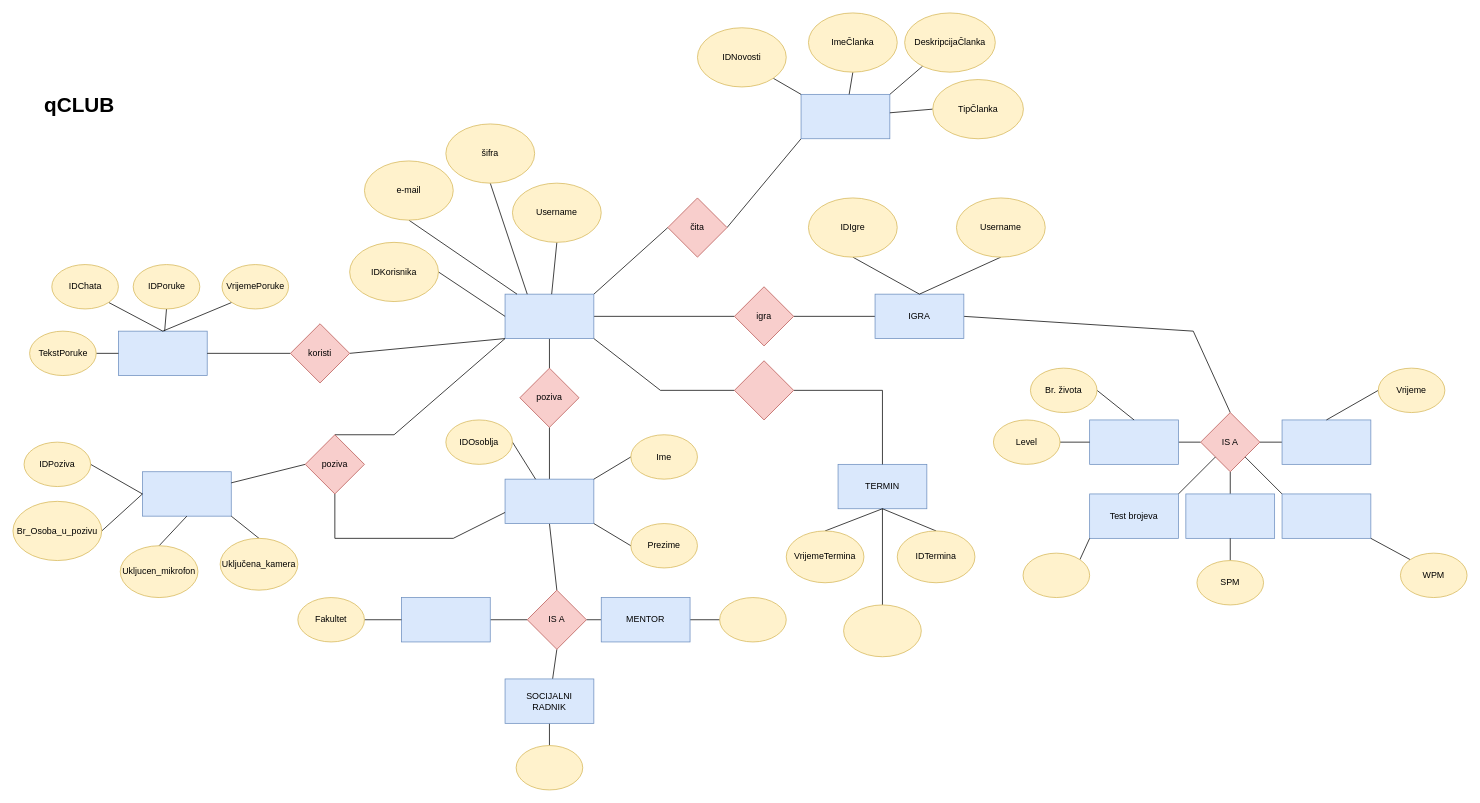
The diagram is 1480 pixels wide and 803 high, and some of its shapes have lost their labels. Here are the shapes that lost their labels. From the top down, the box of each, then its label:
(800, 94, 890, 139): NOVOSTI
(504, 293, 594, 339): KORISNIK
(118, 330, 207, 376): CHAT
(734, 360, 794, 420): zakazuje
(1089, 419, 1178, 464): Vizuelna memorija
(1281, 419, 1371, 464): Vrijeme reakcije
(142, 471, 231, 516): VIDEO POZIV
(504, 478, 594, 524): OSOBLJE
(1185, 493, 1275, 538): Aim trainer
(1281, 493, 1371, 538): Test tipkanja
(1022, 552, 1090, 598): Poeni
(401, 597, 490, 642): PSIHOLOG
(719, 597, 786, 642): Iskustvo
(843, 604, 921, 657): DatumTermina
(515, 745, 583, 790): Stručna sprema
